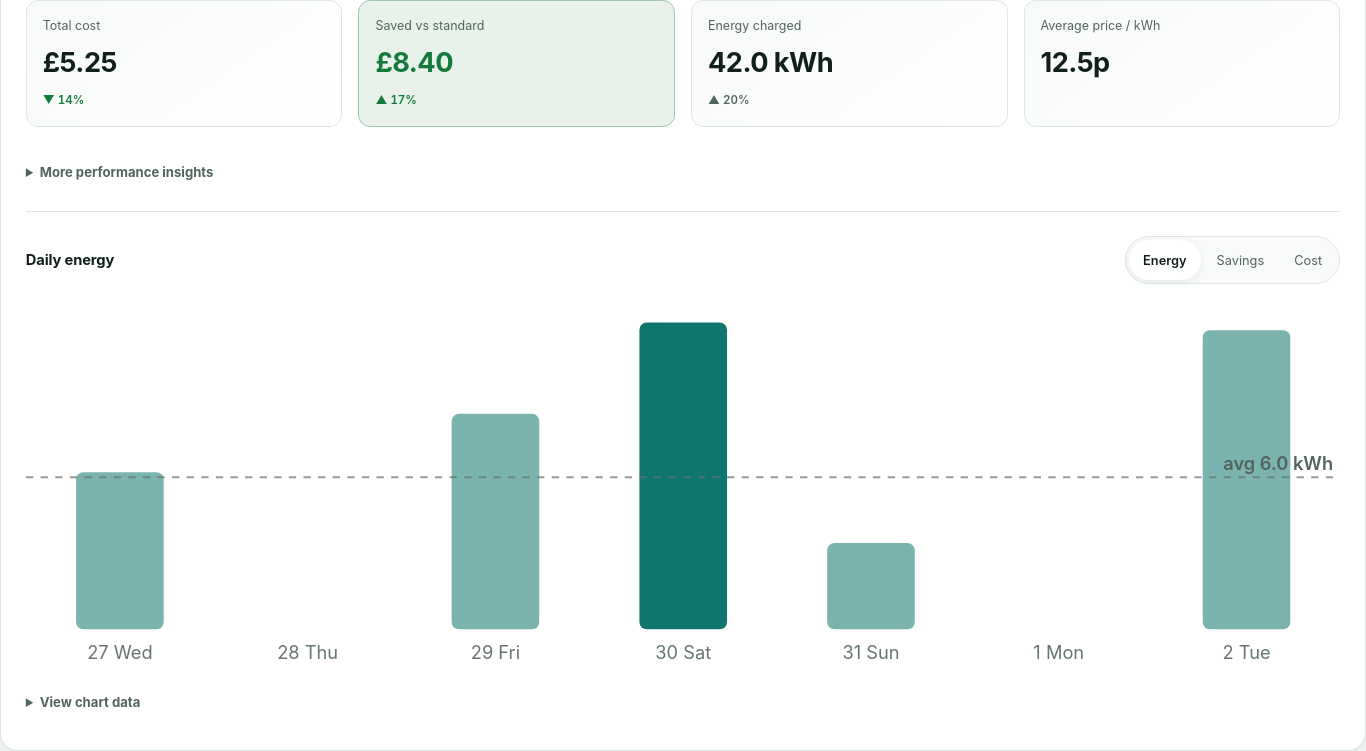
Test: StatisticsSection chart metric toggle › offers the chart values as an accessible data table
The width and height of the screenshot is (1366, 751).
(page scrolled)
Click the heading "View chart data". click: (90, 702)
box: [40,694,140,710]
(page scrolled)
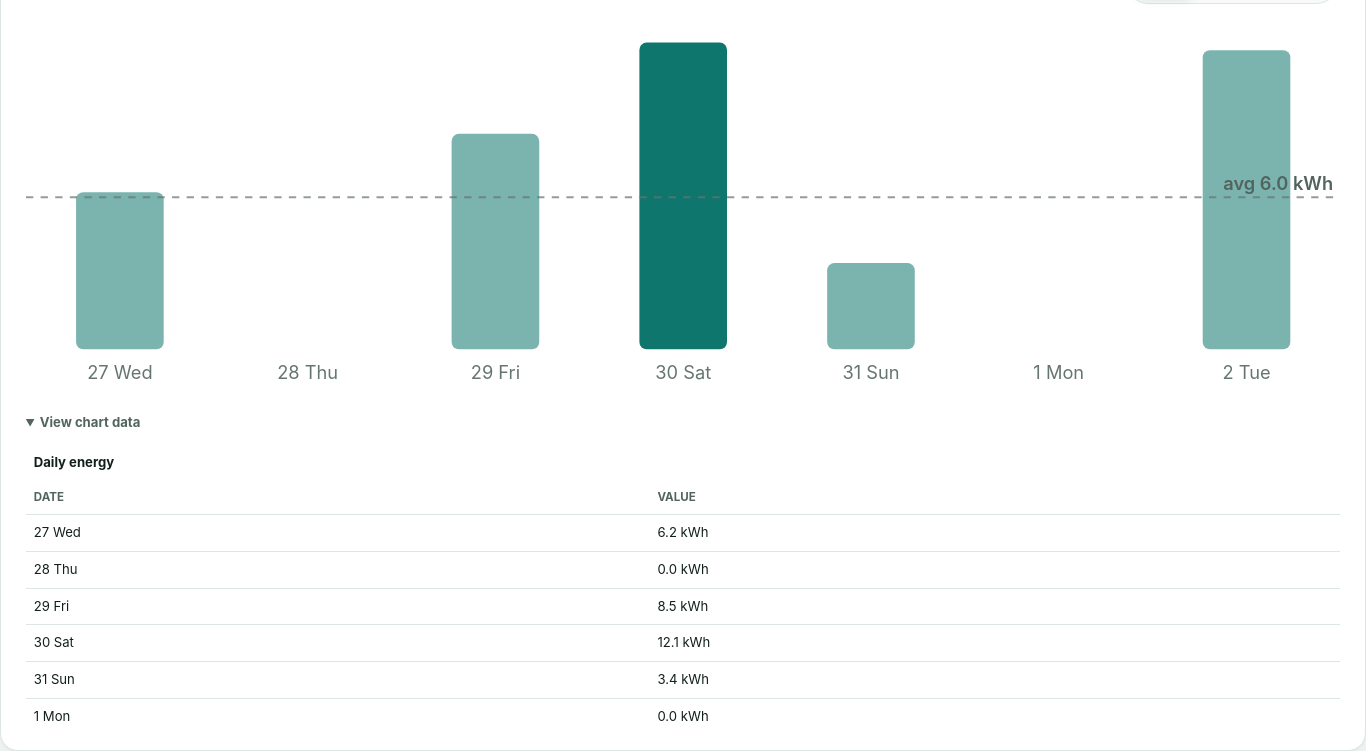
Expected: the text "6.2 kWh" is shown, [649,515,1340,551]
